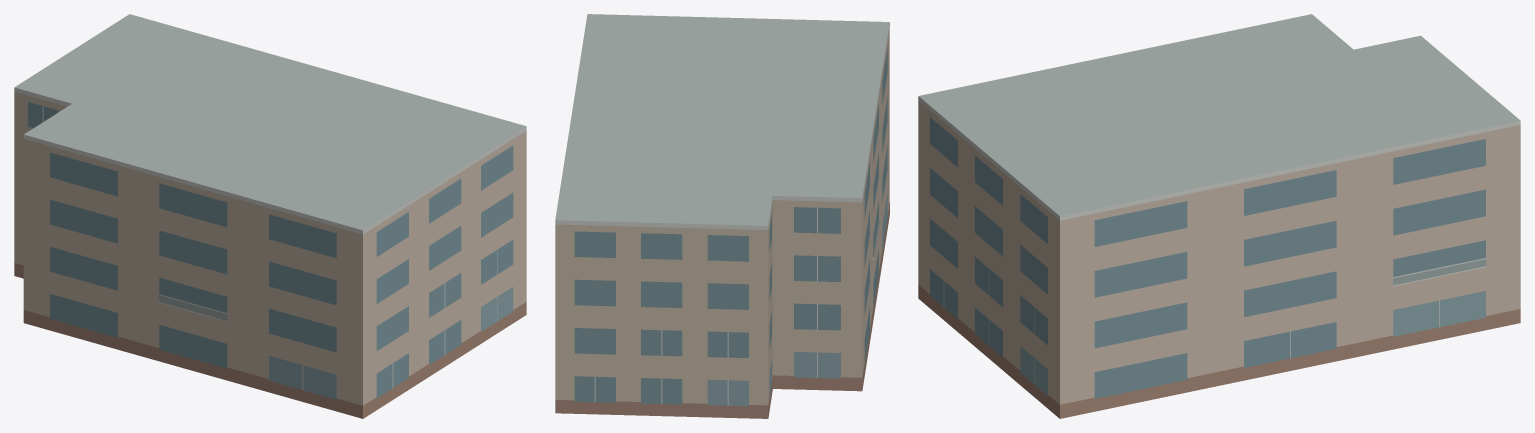
File: survey-upis-32913865.glb
The picture shows the model from 3 angles, left to right: view 1: azimuth 30°, elevation 25°; view 2: azimuth 150°, elevation 25°; view 3: azimuth 270°, elevation 25°; orthographic projection. The views are drawn at different scales.
Parts seen in each view (by area): view 1: survey-upis-32913865.tmp; view 2: survey-upis-32913865.tmp; view 3: survey-upis-32913865.tmp.
Part boxes in pixels (x1,y1,x2,y2): survey-upis-32913865.tmp: (14,14,526,418); survey-upis-32913865.tmp: (555,14,889,418); survey-upis-32913865.tmp: (918,14,1520,418).
Size of the model in its own units: 23.78 by 11.1 by 29.9.
